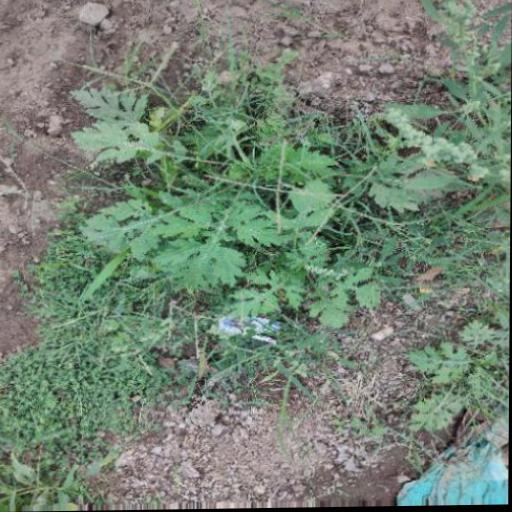weed: (28, 45, 479, 374)
